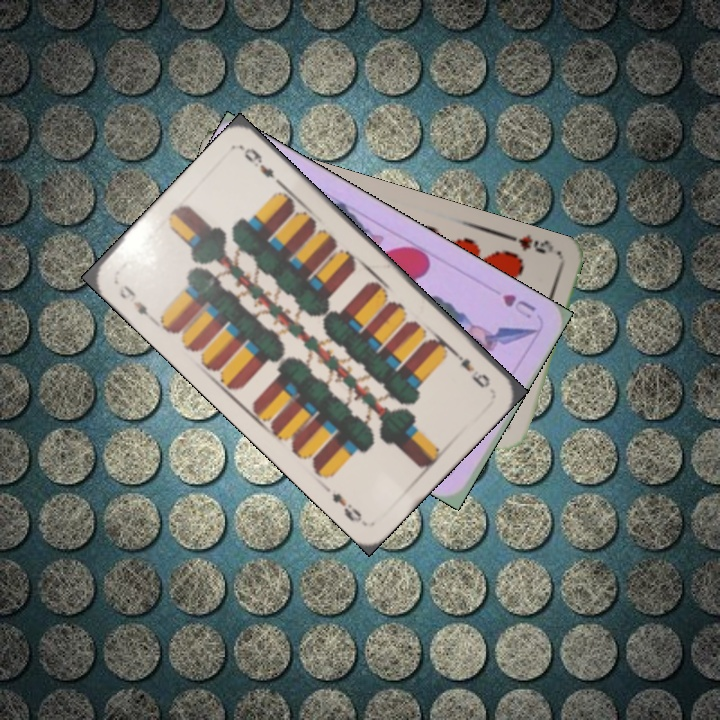E9: (448, 346, 493, 391), (115, 280, 157, 324)
H9: (501, 230, 556, 257)
HU: (498, 290, 539, 322)
